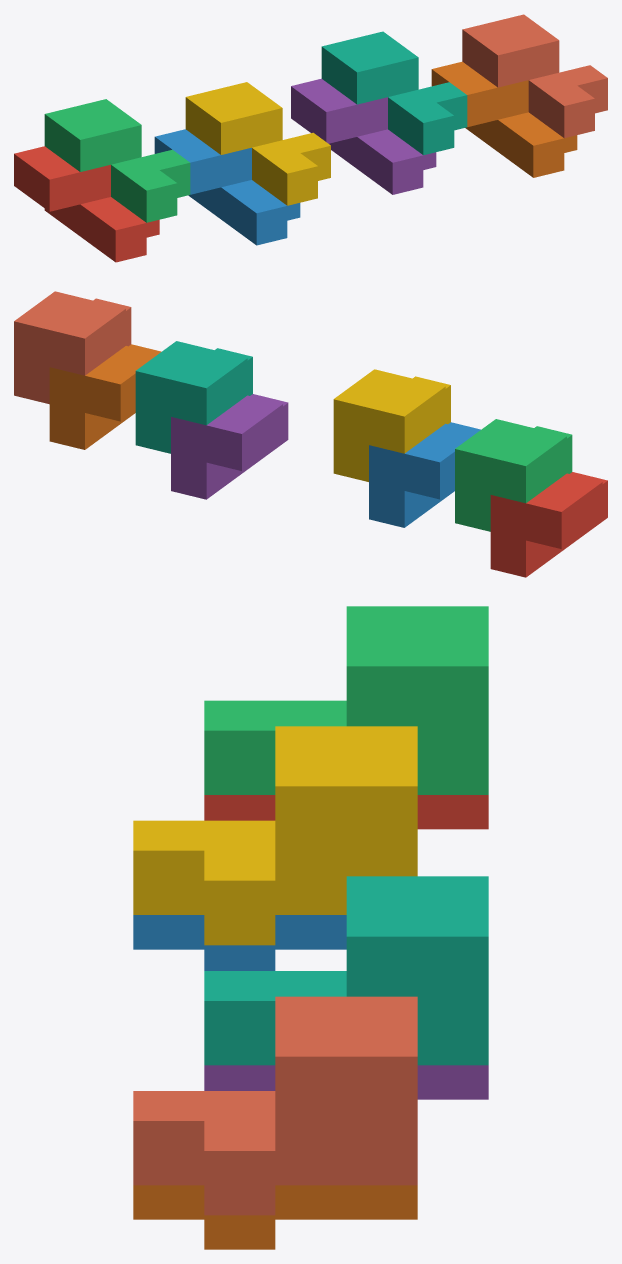
The model's file is tiling.obj.
3 renders of one model, top to bottom at view 1: azimuth 30°, elevation 25°; view 2: azimuth 150°, elevation 25°; view 3: azimuth 270°, elevation 25°, orthographic. The views are drawn at different scales.
Parts seen in each view (by area): view 1: copy_1_domain_7, copy_1_domain_3, copy_1_domain_8, copy_1_domain_4, copy_1_domain_1, copy_1_domain_5, copy_1_domain_6, copy_1_domain_2; view 2: copy_1_domain_8, copy_1_domain_4, copy_1_domain_7, copy_1_domain_3, copy_1_domain_1, copy_1_domain_5, copy_1_domain_6, copy_1_domain_2; view 3: copy_1_domain_8, copy_1_domain_4, copy_1_domain_3, copy_1_domain_7, copy_1_domain_6, copy_1_domain_2, copy_1_domain_5, copy_1_domain_1.
Boxes of the visible parts, bbox=[...] form: copy_1_domain_7: bbox=[321, 31, 467, 155]; copy_1_domain_3: bbox=[44, 99, 190, 222]; copy_1_domain_8: bbox=[462, 14, 607, 138]; copy_1_domain_4: bbox=[185, 82, 330, 205]; copy_1_domain_1: bbox=[14, 146, 159, 262]; copy_1_domain_5: bbox=[291, 78, 436, 194]; copy_1_domain_6: bbox=[431, 61, 577, 177]; copy_1_domain_2: bbox=[154, 129, 300, 245]; copy_1_domain_8: bbox=[14, 291, 131, 404]; copy_1_domain_4: bbox=[333, 369, 450, 481]; copy_1_domain_7: bbox=[135, 341, 252, 453]; copy_1_domain_3: bbox=[455, 419, 572, 531]; copy_1_domain_1: bbox=[490, 472, 607, 577]; copy_1_domain_5: bbox=[171, 394, 288, 499]; copy_1_domain_6: bbox=[49, 344, 161, 449]; copy_1_domain_2: bbox=[369, 422, 480, 527]; copy_1_domain_8: bbox=[133, 996, 417, 1215]; copy_1_domain_4: bbox=[133, 726, 417, 945]; copy_1_domain_3: bbox=[204, 606, 488, 794]; copy_1_domain_7: bbox=[204, 876, 488, 1065]; copy_1_domain_6: bbox=[133, 1185, 417, 1249]; copy_1_domain_2: bbox=[133, 915, 346, 970]; copy_1_domain_5: bbox=[204, 1065, 488, 1099]; copy_1_domain_1: bbox=[204, 795, 488, 829].
Size of the model in its own units: 17 by 3 by 5.
